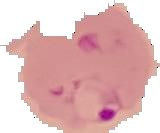parasitized: (61, 75, 125, 124)
